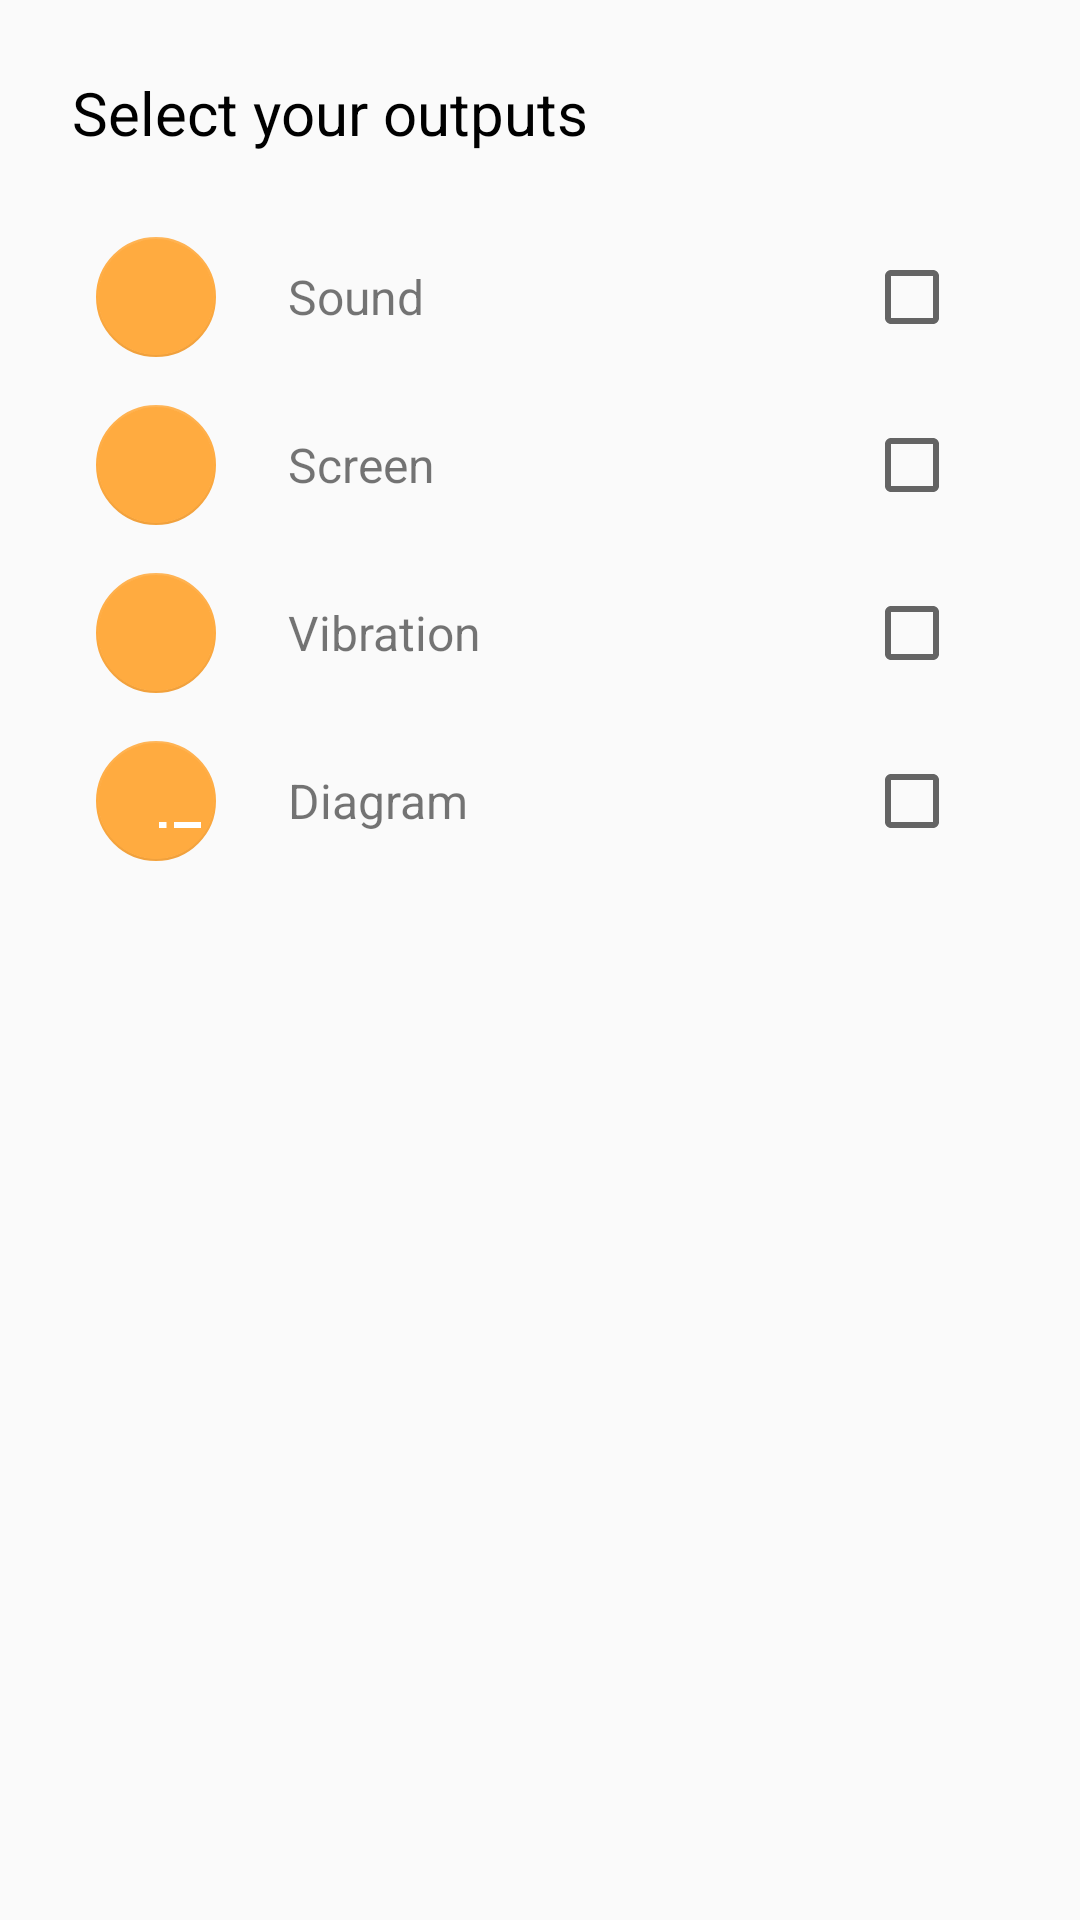

Screen size 1080w x 1920h. Icon name, then its center in pixels as [x,y]:
morse: [156,801]
